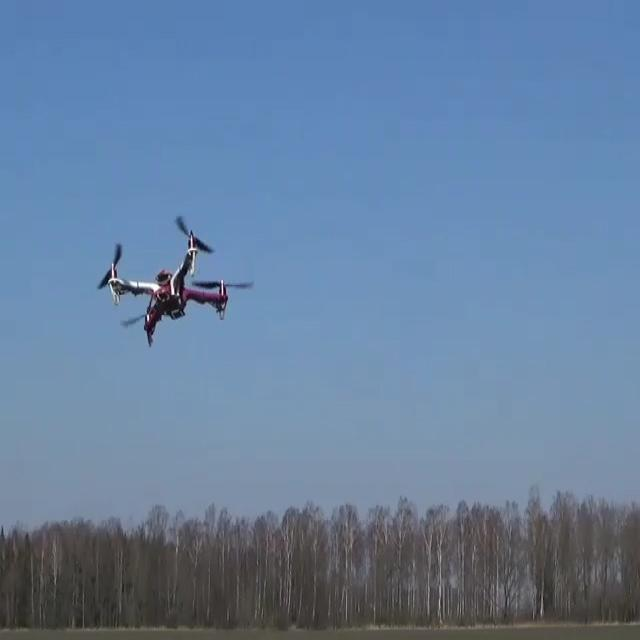drone: (96, 214, 254, 346)
